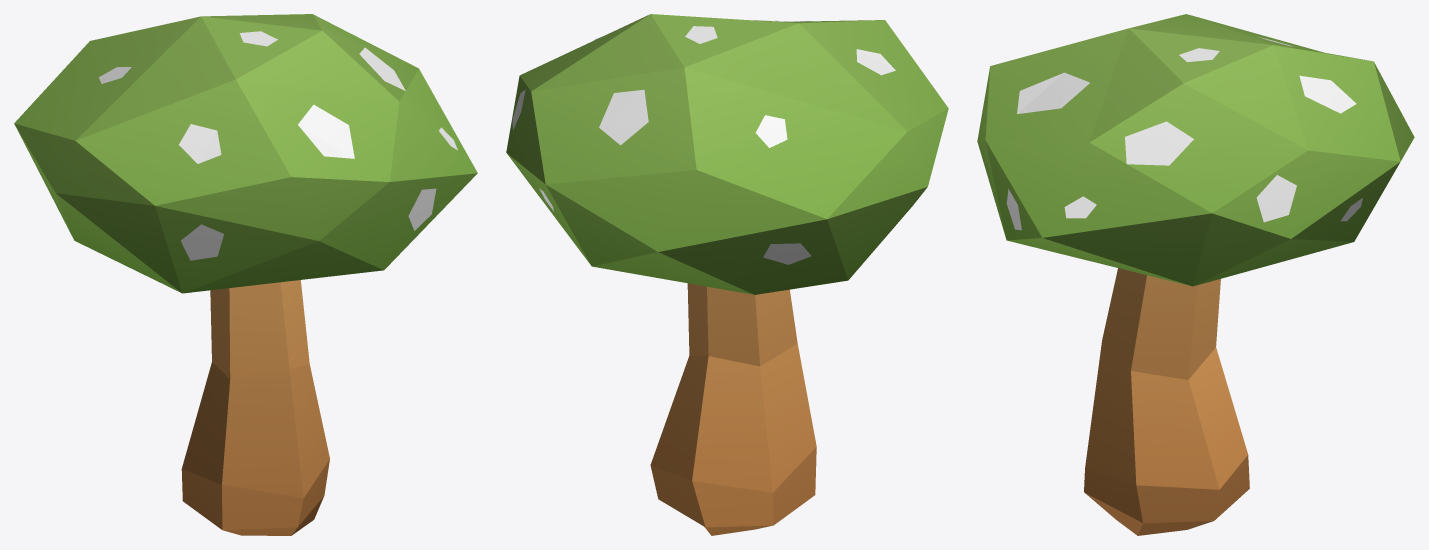
The model's file is mushroom_green_small.fbx.
The picture shows the model from 3 angles, left to right: view 1: azimuth 30°, elevation 25°; view 2: azimuth 150°, elevation 25°; view 3: azimuth 270°, elevation 25°; orthographic projection. The views are drawn at different scales.
Parts seen in each view (by area): view 1: mushroom_green_small; view 2: mushroom_green_small; view 3: mushroom_green_small.
Part boxes in pixels (bbox=[...]): mushroom_green_small: bbox=[14, 14, 477, 535]; mushroom_green_small: bbox=[506, 14, 948, 535]; mushroom_green_small: bbox=[977, 14, 1414, 535].
Bounding box in the file's own units: 0.55 × 0.65 × 0.55.
Materials: 1 (1 with a texture image).
